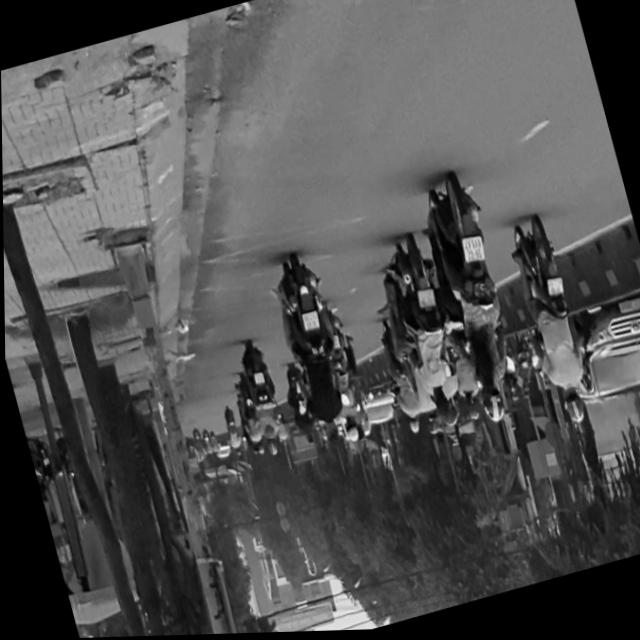helmet: (479, 386, 509, 429), (561, 391, 588, 429), (436, 403, 461, 432)
licenseplate: (413, 169, 535, 436), (502, 214, 603, 435), (261, 249, 364, 460), (372, 233, 474, 442)
motorcyclist: (428, 384, 450, 419), (320, 420, 343, 451)
nohelmet: (459, 236, 486, 267), (414, 289, 436, 312), (300, 312, 319, 333), (545, 281, 565, 300)
